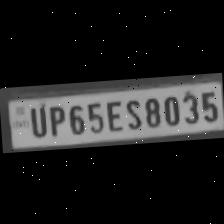0: (159, 91, 181, 125)
3: (179, 89, 199, 124)
5: (196, 86, 220, 122), (84, 98, 104, 132)
6: (63, 100, 85, 133)
8: (140, 93, 162, 128)
E: (102, 97, 124, 131)
P: (45, 100, 66, 136)
S: (122, 94, 142, 128)
U: (23, 103, 48, 136)
